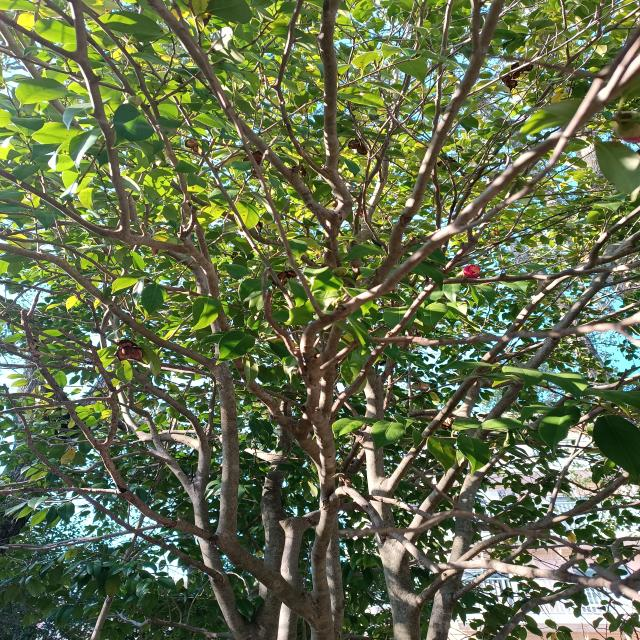Branch: (121, 230, 298, 437), (369, 0, 485, 288), (300, 226, 466, 419), (209, 357, 312, 622), (390, 304, 536, 487), (128, 360, 211, 492), (192, 486, 251, 634), (318, 0, 353, 225), (127, 389, 193, 495), (310, 409, 339, 591), (281, 509, 319, 586)
Twig: (20, 309, 216, 544), (152, 2, 335, 239), (2, 383, 221, 581), (455, 28, 640, 226), (335, 487, 638, 600), (468, 38, 640, 228), (0, 0, 130, 231), (0, 243, 209, 368), (529, 205, 640, 307), (271, 0, 321, 175), (0, 168, 120, 238), (1, 524, 165, 551), (440, 263, 639, 284), (37, 437, 170, 462), (66, 451, 144, 472), (482, 0, 506, 52)
